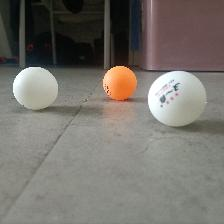WhiteBall: (146, 69, 206, 127), (11, 65, 59, 110)
YellowBall: (102, 65, 137, 100)
